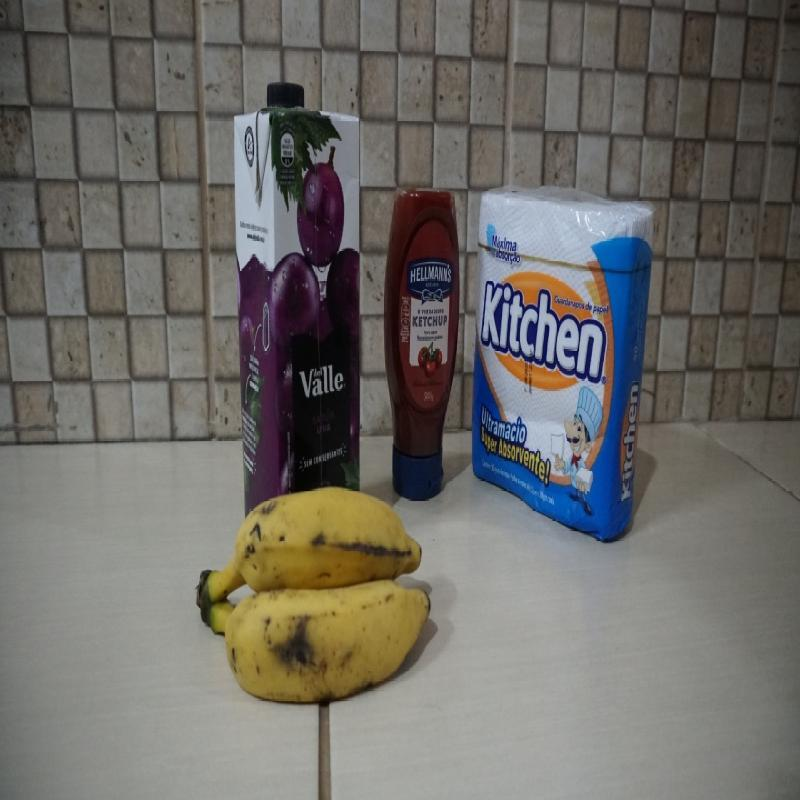Banana: (195, 482, 427, 711)
Ketchup: (384, 184, 460, 472)
Napkin: (472, 184, 650, 528)
